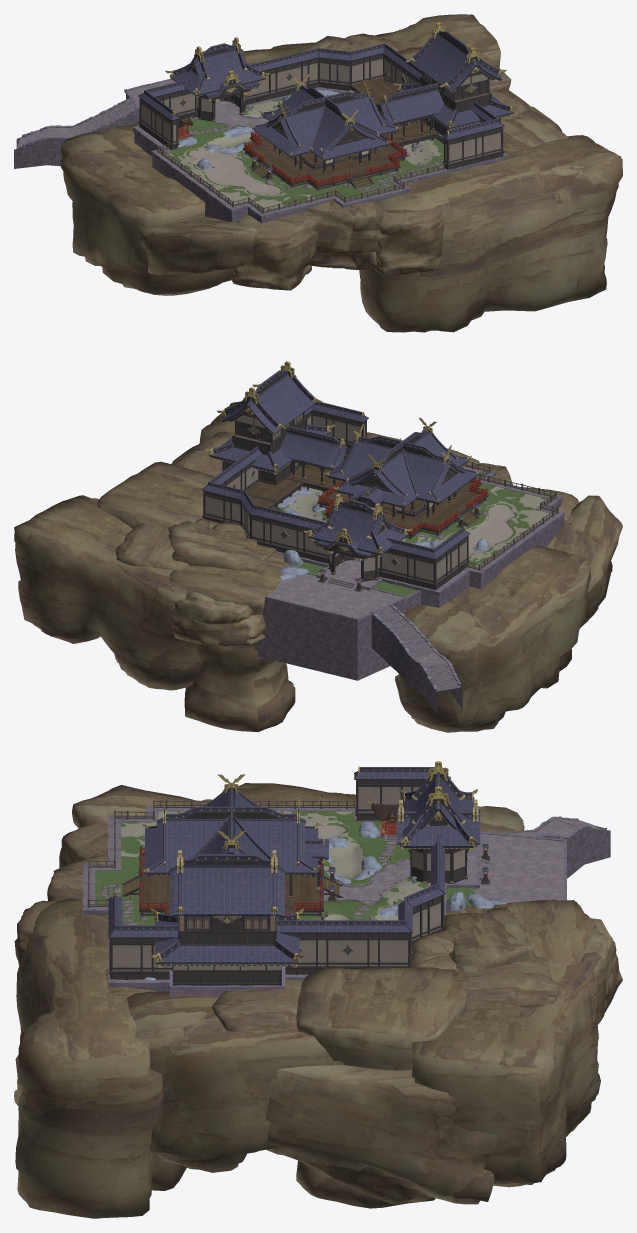
File: scene_fix_no_tree backup.fbx
3 renders of one model, top to bottom at view 1: azimuth 30°, elevation 25°; view 2: azimuth 150°, elevation 25°; view 3: azimuth 270°, elevation 25°, orthographic. The views are drawn at different scales.
Visible parts, largest first — view 1: 岩石6, 岩石3, 岩石4, 岩石5, 岩石17, 岩石15, 草地, 主体建筑, 大门 台阶, 左侧 屋檐, 岩石1, 大门 (+37 smaller); view 2: 岩石3, 岩石1, 岩石2, 侧面墙体, 岩石9, 岩石4, 岩石0, 主体建筑, 岩石, 门口的石地板, 楼梯 外, 左侧 屋檐 (+32 smaller); view 3: 岩石6, 岩石1, 岩石8, 岩石7, 岩石9, 左侧 屋檐, 主体建筑, 门口的石地板, 草地, 岩石2, 岩石, 大门 (+33 smaller).
Part boxes in pixels (box(x1,y1,x2,y2)): 岩石6: box(359, 135, 622, 332); 岩石3: box(60, 123, 232, 295); 岩石4: box(139, 216, 257, 275); 岩石5: box(231, 211, 321, 290); 岩石17: box(307, 200, 383, 269); 岩石15: box(374, 209, 444, 275); 草地: box(164, 92, 443, 210); 主体建筑: box(393, 22, 518, 135); 大门 台阶: box(133, 87, 509, 219); 左侧 屋檐: box(397, 35, 514, 128); 岩石1: box(271, 14, 500, 67); 大门: box(165, 37, 270, 121); 岩石3: box(395, 545, 591, 732); 岩石1: box(14, 495, 201, 690); 岩石2: box(169, 552, 295, 732); 侧面墙体: box(254, 593, 462, 714); 岩石9: box(97, 461, 214, 528); 岩石4: box(546, 495, 622, 625); 岩石0: box(171, 590, 266, 646); 主体建筑: box(204, 361, 334, 485); 岩石: box(168, 521, 276, 573); 门口的石地板: box(266, 574, 445, 665); 楼梯 外: box(264, 573, 461, 691); 左侧 屋檐: box(209, 375, 330, 472); 岩石6: box(14, 898, 186, 1218); 岩石1: box(412, 952, 606, 1187); 岩石8: box(266, 1065, 499, 1204); 岩石7: box(126, 991, 345, 1172); 岩石9: box(296, 967, 467, 1208); 左侧 屋檐: box(155, 866, 299, 964); 主体建筑: box(150, 850, 303, 985); 门口的石地板: box(474, 819, 578, 902); 草地: box(95, 811, 427, 925); 岩石2: box(446, 899, 596, 967); 岩石: box(444, 907, 537, 972); 大门: box(398, 761, 478, 883).
Size of the model in its own units: 11165 by 5398 by 9498.
Materials: 260 (239 with a texture image).
